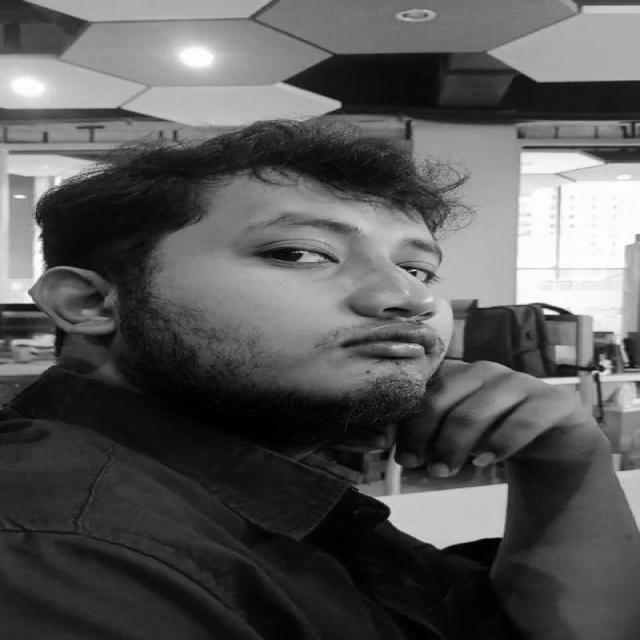real: (134, 188, 456, 414)
